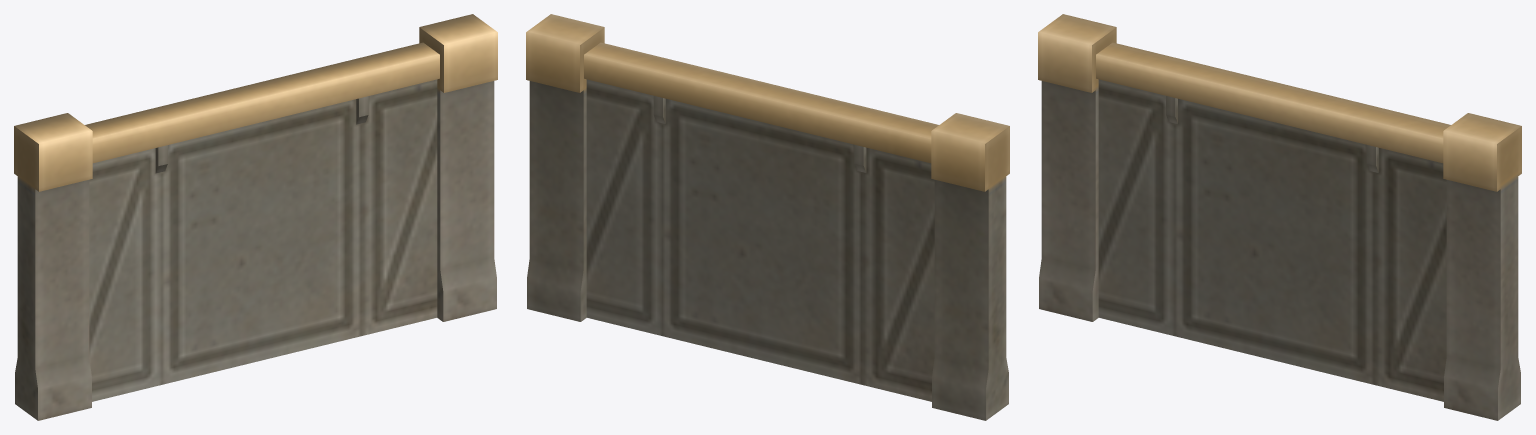
File: Wall_High_Full.FBX
The picture shows the model from 3 angles, left to right: view 1: azimuth 30°, elevation 25°; view 2: azimuth 150°, elevation 25°; view 3: azimuth 330°, elevation 25°; orthographic projection.
Visible parts, largest first — view 1: Wall_High_Full; view 2: Wall_High_Full; view 3: Wall_High_Full.
Part boxes in pixels (box(x1,y1,x2,y2)): Wall_High_Full: box(14, 14, 497, 420); Wall_High_Full: box(526, 14, 1009, 420); Wall_High_Full: box(1038, 14, 1521, 420).
Bounding box in the file's own units: 906 × 523 × 85.18.
